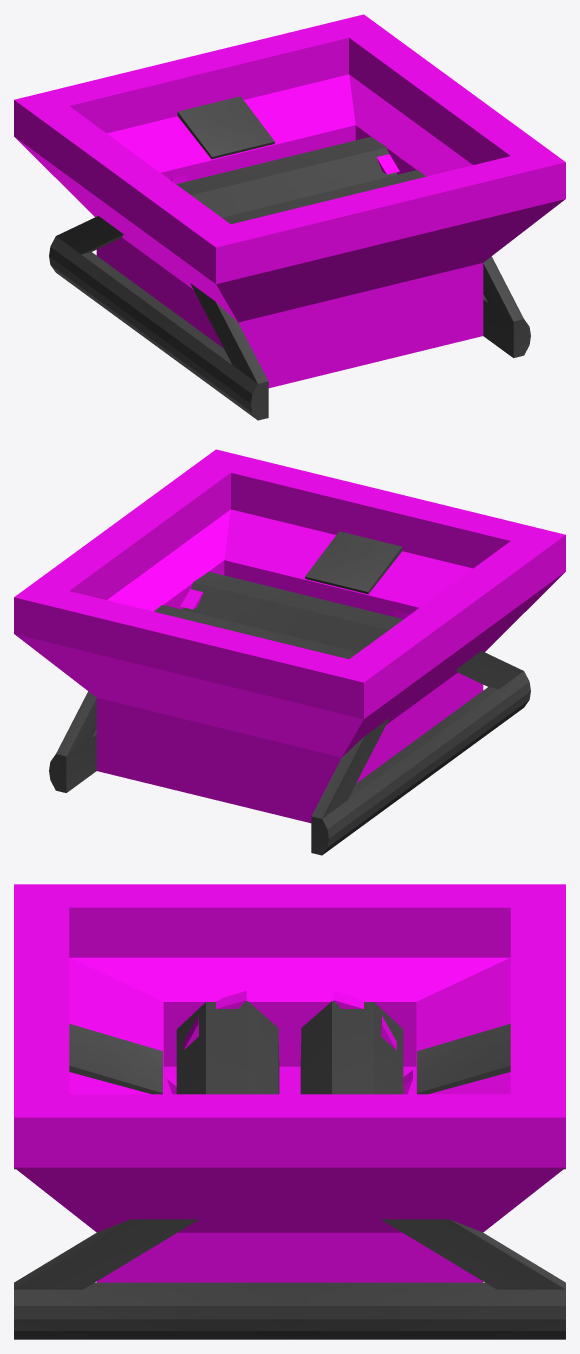
File: conveyor_processor_shredder.obj
3 views of the same model, one above another, from view 1: azimuth 30°, elevation 25°; view 2: azimuth 150°, elevation 25°; view 3: azimuth 270°, elevation 25° (orthographic). The views are drawn at different scales.
Visible parts, largest first — view 1: ProcessorChute_chutemdl, Support_Alu_smdl_alu, Processor_Walzes, ProcessorMarker_Shredder_pmmdl_shr; view 2: ProcessorChute_chutemdl, Support_Alu_smdl_alu, Processor_Walzes, ProcessorMarker_Shredder_pmmdl_shr; view 3: ProcessorChute_chutemdl, Support_Alu_smdl_alu, Processor_Walzes, ProcessorMarker_Shredder_pmmdl_shr, BumpsShredder.
Part boxes in pixels (<box>): ProcessorChute_chutemdl: <box>14,14,565,388</box>; Support_Alu_smdl_alu: <box>49,216,530,420</box>; Processor_Walzes: <box>176,137,425,224</box>; ProcessorMarker_Shredder_pmmdl_shr: <box>177,96,274,159</box>; ProcessorChute_chutemdl: <box>14,449,565,823</box>; Support_Alu_smdl_alu: <box>49,651,530,855</box>; Processor_Walzes: <box>154,572,403,659</box>; ProcessorMarker_Shredder_pmmdl_shr: <box>305,531,402,594</box>; ProcessorChute_chutemdl: <box>14,884,565,1282</box>; Support_Alu_smdl_alu: <box>14,1168,565,1339</box>; Processor_Walzes: <box>176,1001,403,1094</box>; ProcessorMarker_Shredder_pmmdl_shr: <box>69,1024,510,1094</box>; BumpsShredder: <box>167,991,412,1094</box>.
Size of the model in its own units: 1 by 0.5 by 1.
